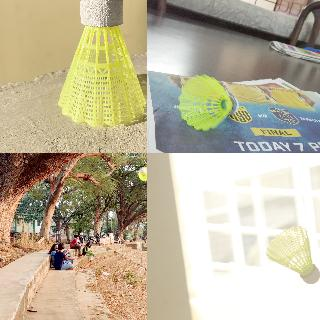shuttlecock: (58, 0, 147, 127), (178, 74, 238, 130), (266, 226, 320, 284), (138, 166, 146, 182)
